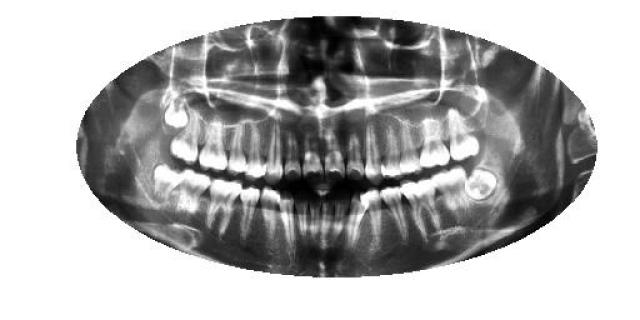Restorations: (465, 166, 499, 202), (162, 95, 188, 134)
